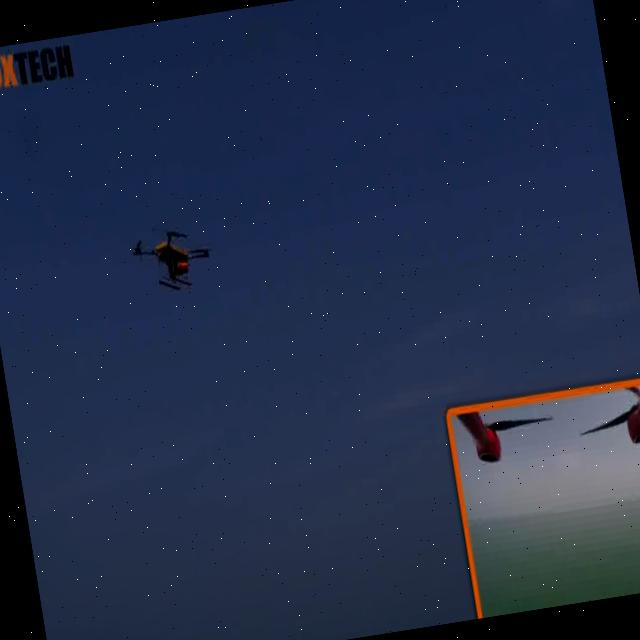drone: (93, 140, 255, 382)
